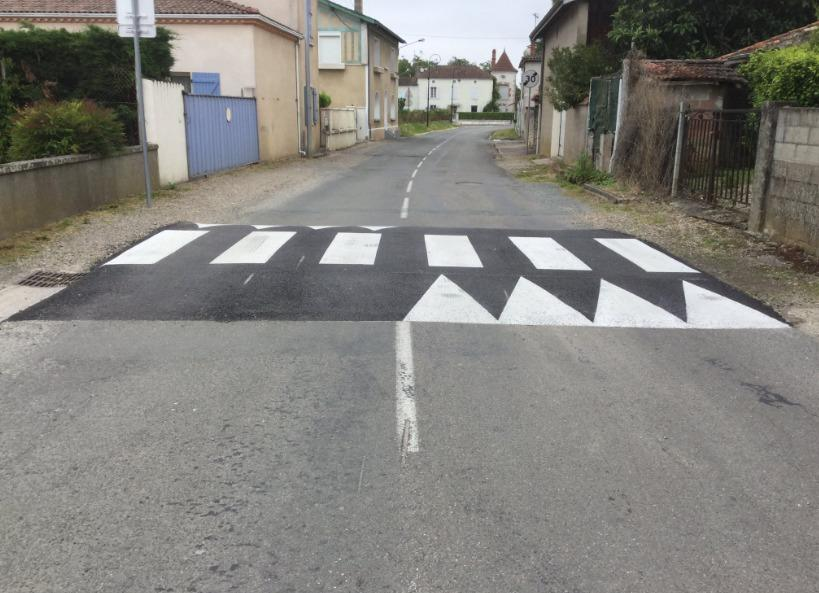Bump: (29, 216, 770, 343)
